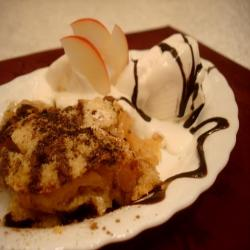apple_pie: (6, 105, 180, 225)
icecream: (119, 31, 217, 129)
